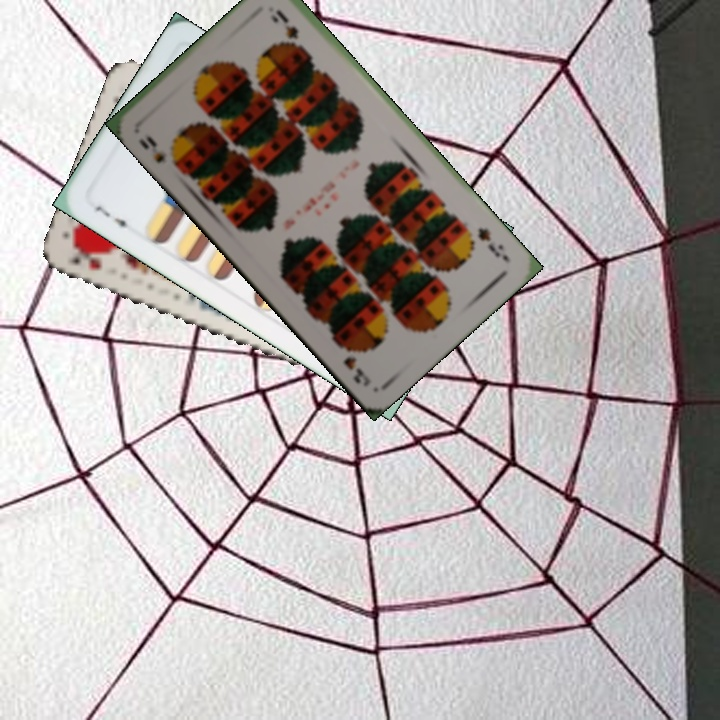E7: (91, 201, 135, 235)
HK: (66, 244, 105, 274)
S9: (473, 223, 507, 260), (134, 131, 169, 166)
